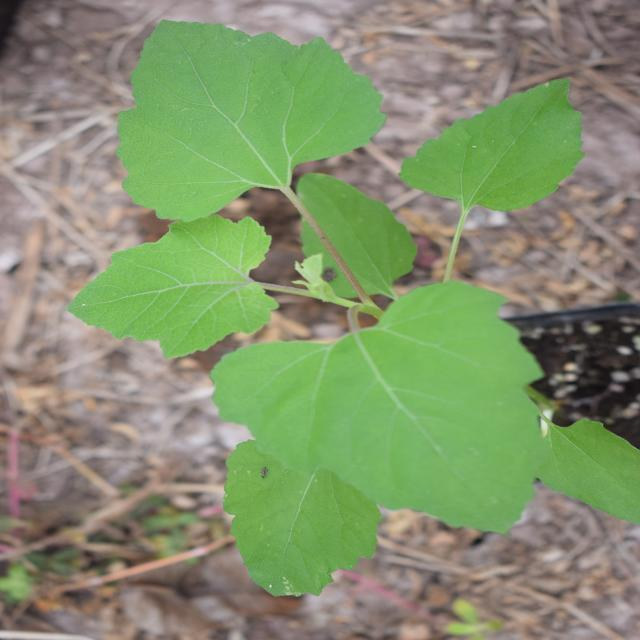cocklebur: (46, 38, 594, 576)
